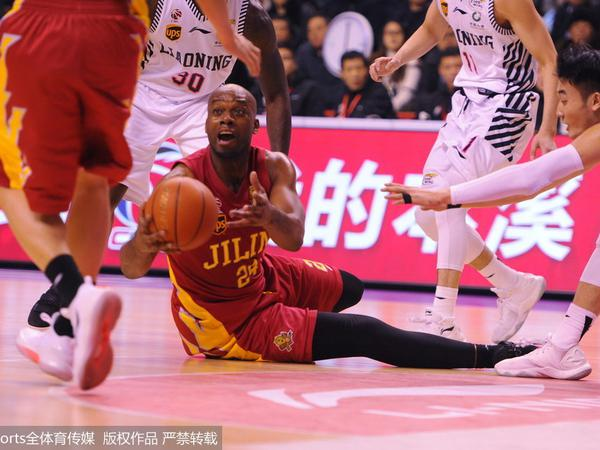10+: (3, 1, 600, 394)
down: (146, 83, 548, 370)
